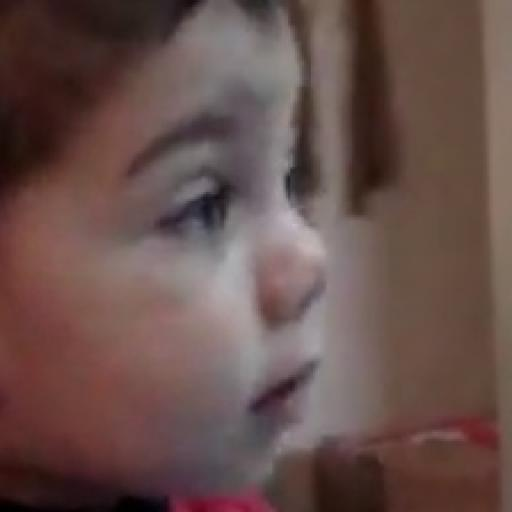Autism: (44, 36, 408, 470)
